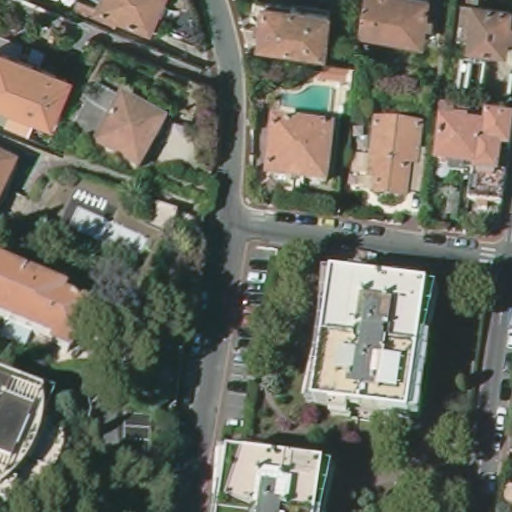pool: (273, 81, 338, 119)
